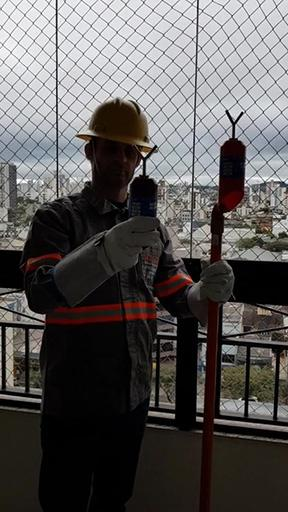Detector_Tensao_Contato: (216, 108, 246, 213), (130, 143, 159, 239)
Vara_Manobra: (196, 213, 223, 512)
